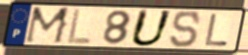8: (101, 10, 132, 46)
L: (66, 7, 93, 45), (203, 13, 230, 47)
M: (22, 6, 73, 45)
S: (169, 10, 203, 49)
U: (128, 8, 175, 49)
